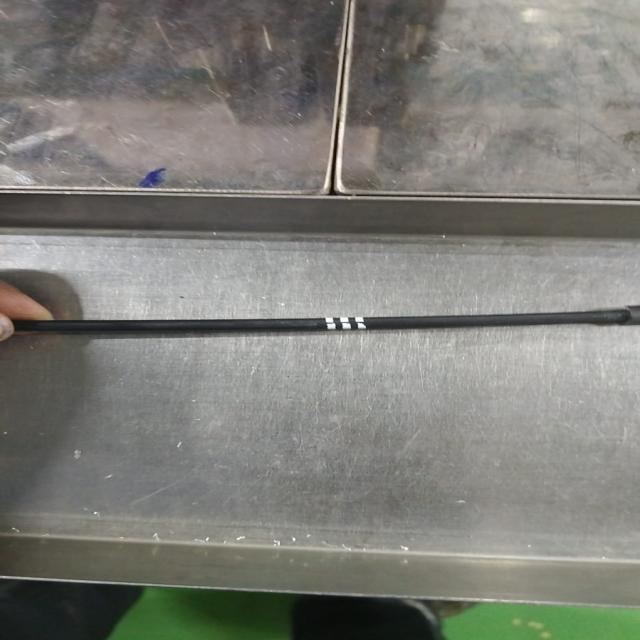white: (324, 317, 366, 330)
